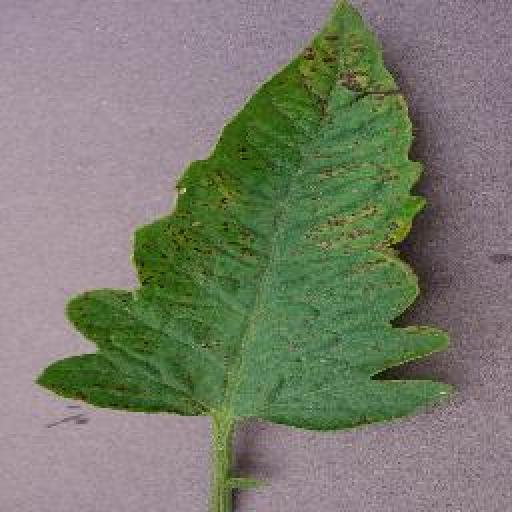Septoria: (36, 3, 459, 432)
